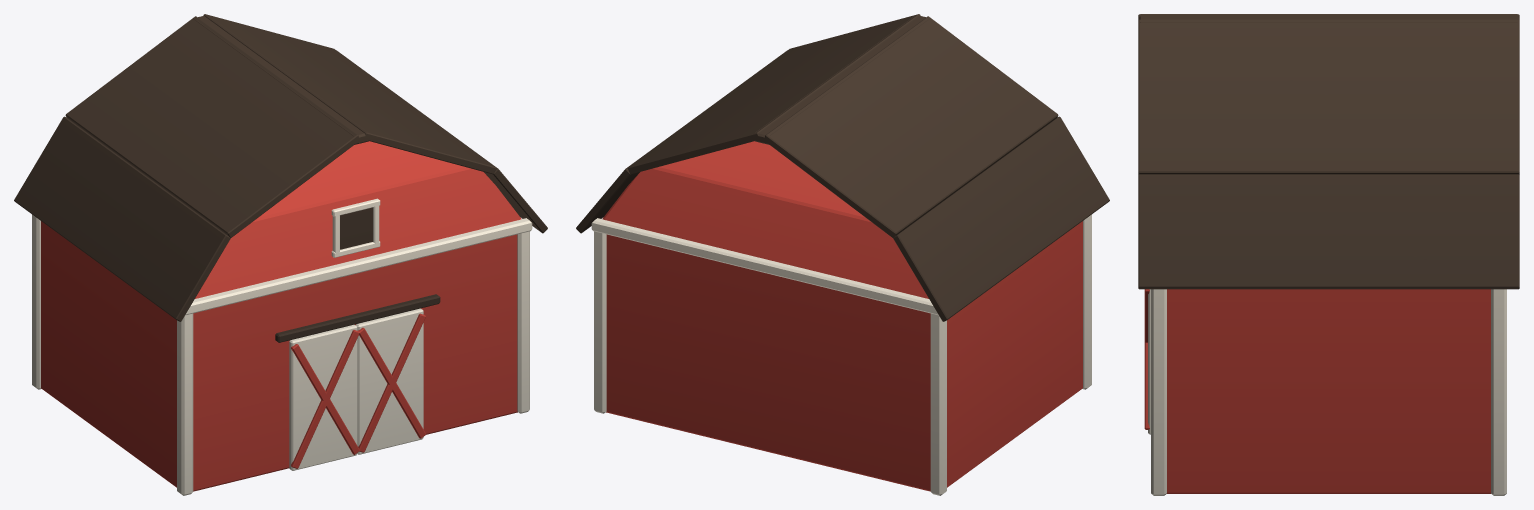
The model's file is barn.7db6a44fd16b.glb.
3 views of the same model, side by side, from view 1: azimuth 30°, elevation 25°; view 2: azimuth 150°, elevation 25°; view 3: azimuth 270°, elevation 25° (orthographic). The views are drawn at different scales.
Parts seen in each view (by area): view 1: barn_red, barn_dark, barn_cream; view 2: barn_red, barn_dark, barn_cream; view 3: barn_dark, barn_red, barn_cream.
Boxes of the visible parts, left/top/right/bottom form: barn_red: left=41, top=141, right=521, bottom=491; barn_dark: left=14, top=14, right=547, bottom=342; barn_cream: left=32, top=198, right=532, bottom=495; barn_red: left=602, top=141, right=1082, bottom=491; barn_dark: left=576, top=14, right=1109, bottom=321; barn_cream: left=591, top=214, right=1091, bottom=495; barn_dark: left=1138, top=14, right=1519, bottom=289; barn_red: left=1144, top=289, right=1490, bottom=493; barn_cream: left=1148, top=289, right=1506, bottom=495.
Bounding box in the file's own units: 8.71 × 7.26 × 6.6.
